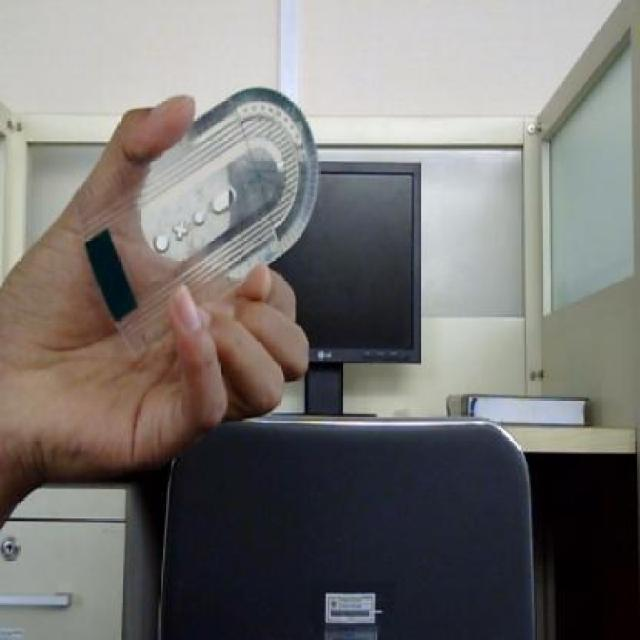Plastic: (76, 86, 321, 321)
